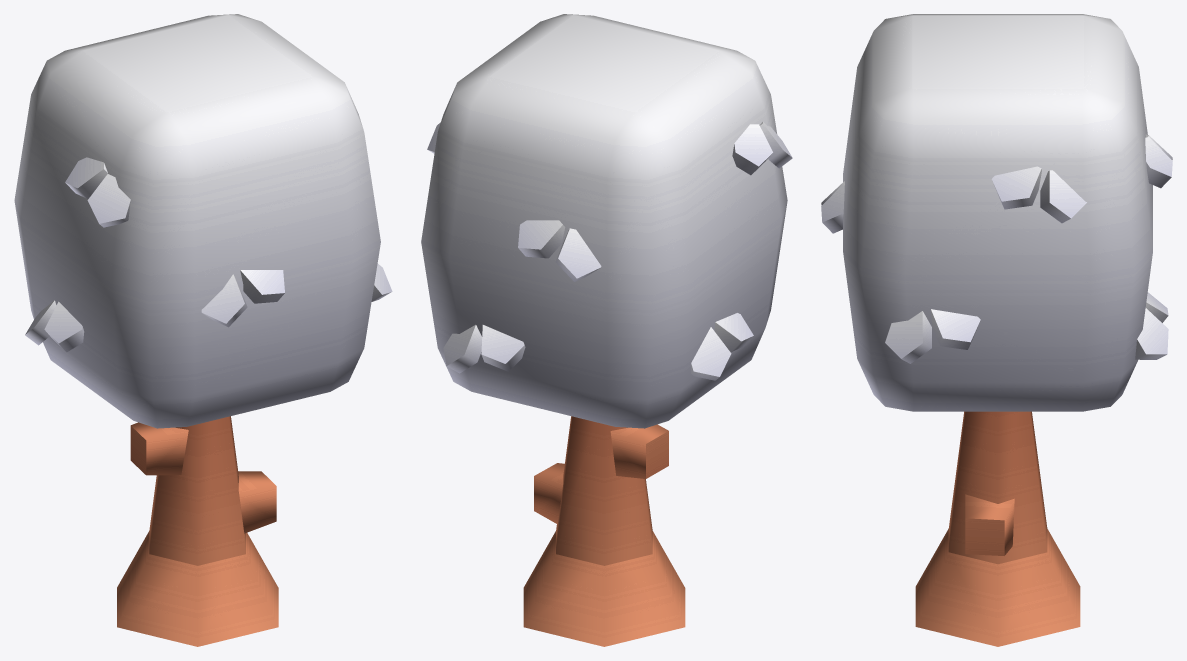
The model's file is tree-snow.glb.
3 renders of one model, left to right at view 1: azimuth 30°, elevation 25°; view 2: azimuth 150°, elevation 25°; view 3: azimuth 270°, elevation 25°, orthographic.
Visible parts, largest first — view 1: Group (×7), tree-snow; view 2: Group (×9), tree-snow; view 3: Group (×8), tree-snow.
Boxes of the visible parts, x1,y1,x2,y2 form: Group (×7): (14,14,380,428); tree-snow: (117,416,278,646); Group (×9): (421,14,792,428); tree-snow: (523,416,685,646); Group (×8): (821,14,1172,411); tree-snow: (915,411,1080,646).
Size of the model in its own units: 1.09 by 1.93 by 1.11.
1 material, 1 textured.
